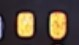MISSING: (11, 5, 39, 42), (44, 5, 72, 42)
